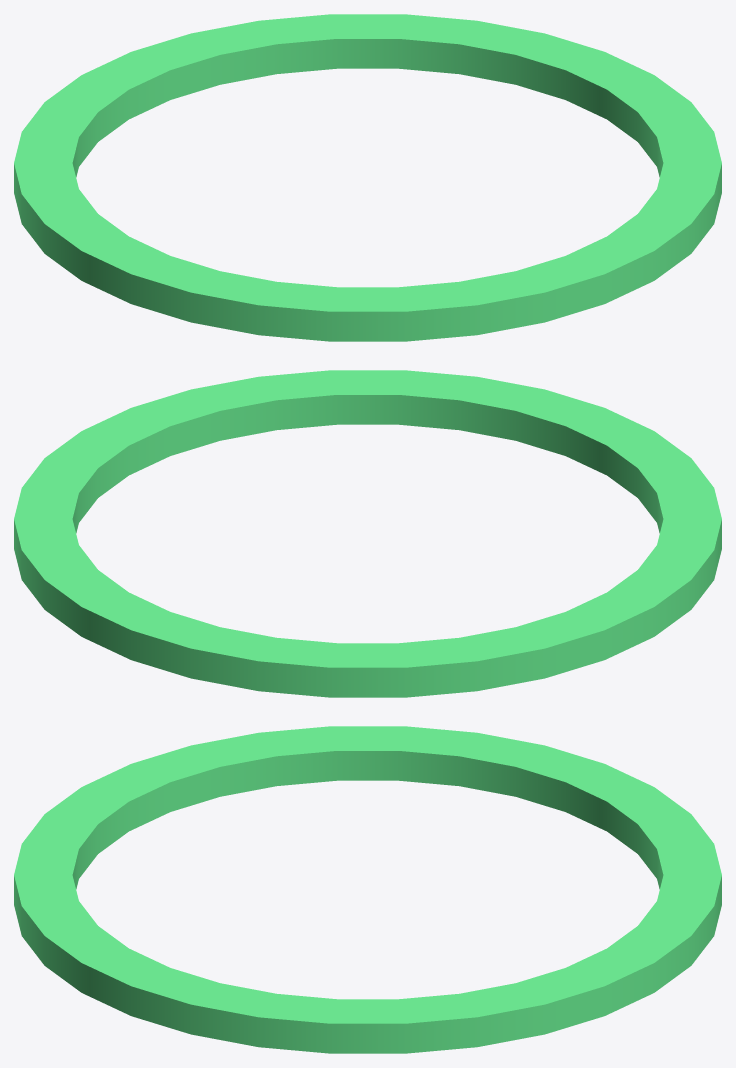
File: quan-l.FBX
The picture shows the model from 3 angles, top to bottom: view 1: azimuth 30°, elevation 25°; view 2: azimuth 150°, elevation 25°; view 3: azimuth 270°, elevation 25°; orthographic projection.
Visible parts, largest first — view 1: Tube001; view 2: Tube001; view 3: Tube001.
Part boxes in pixels (x1=…): Tube001: x1=14, y1=14, x2=721, y2=341; Tube001: x1=14, y1=370, x2=721, y2=697; Tube001: x1=14, y1=726, x2=721, y2=1053.
Bounding box in the file's own units: 22.14 × 1.04 × 22.26.
Materials: 1 (1 with a texture image).
